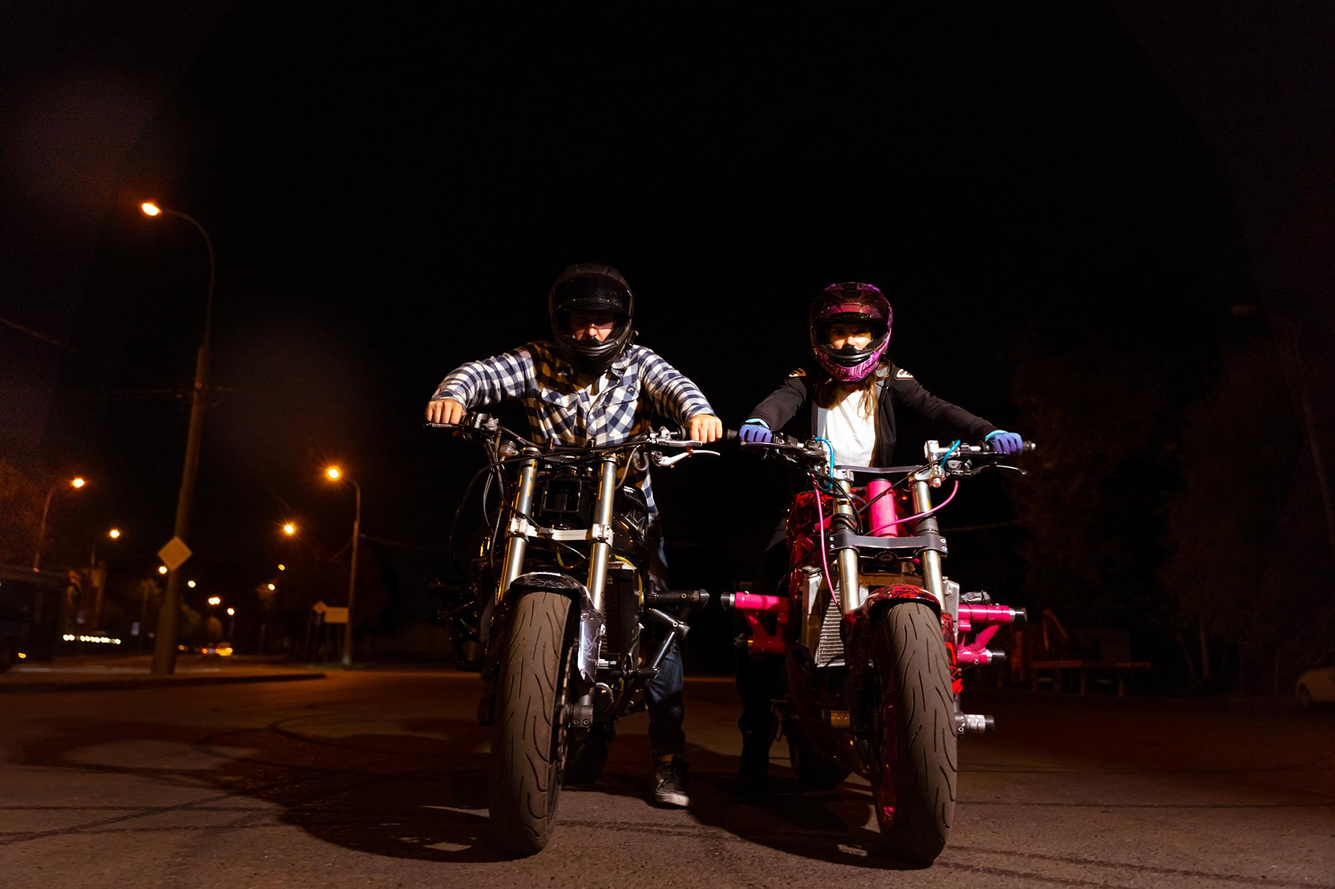helmet: (547, 261, 636, 375), (807, 280, 894, 386)
